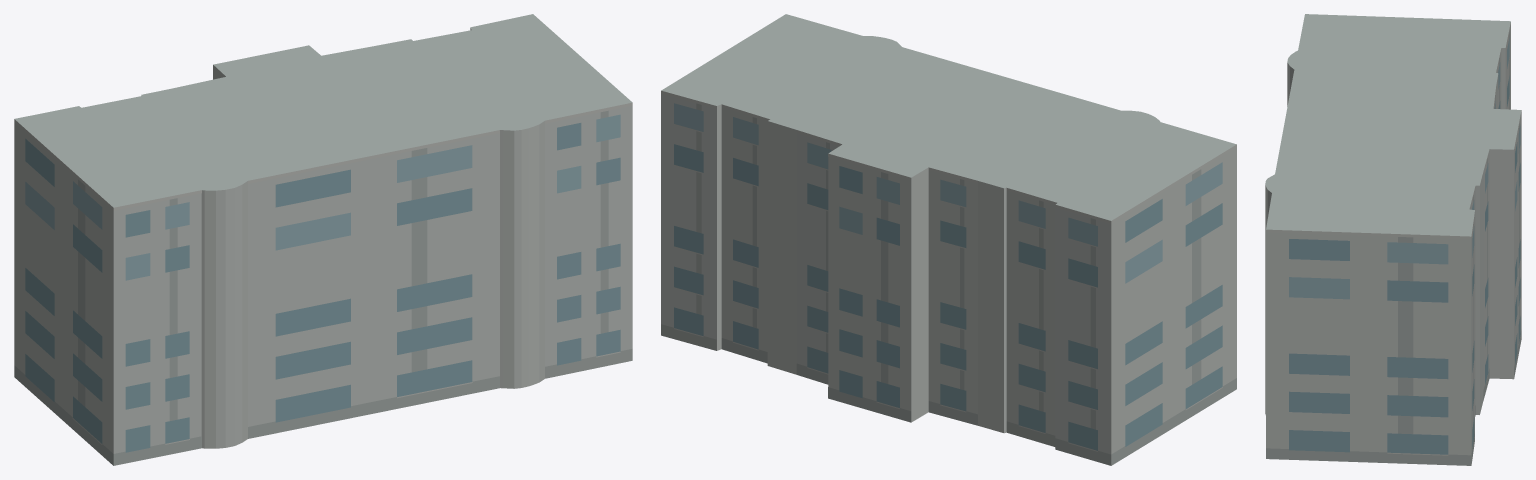
Rendered from survey-upis-32832590.glb.
The picture shows the model from 3 angles, left to right: view 1: azimuth 30°, elevation 25°; view 2: azimuth 150°, elevation 25°; view 3: azimuth 270°, elevation 25°; orthographic projection. The views are drawn at different scales.
Parts seen in each view (by area): view 1: survey-upis-32832590.tmp; view 2: survey-upis-32832590.tmp; view 3: survey-upis-32832590.tmp.
Part boxes in pixels (x1,y1,x2,y2): survey-upis-32832590.tmp: (14,14,632,465); survey-upis-32832590.tmp: (661,14,1236,465); survey-upis-32832590.tmp: (1265,14,1521,465).
Bounding box in the file's own units: 41.2 × 19.8 × 20.04.
